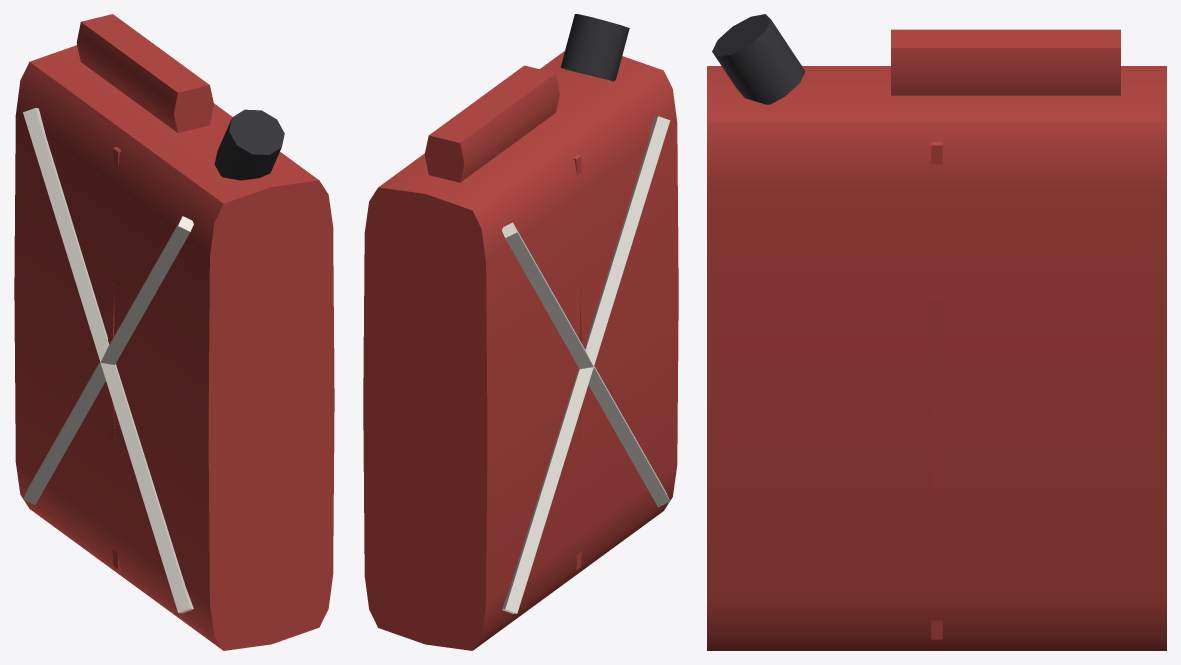
File: fuel_can.glb
3 views of the same model, side by side, from view 1: azimuth 30°, elevation 25°; view 2: azimuth 150°, elevation 25°; view 3: azimuth 270°, elevation 25° (orthographic). The views are drawn at different scales.
Visible parts, largest first — view 1: lod0; view 2: lod0; view 3: lod0.
Part boxes in pixels (<box>): lod0: <box>14,14,334,650</box>; lod0: <box>363,14,678,650</box>; lod0: <box>707,14,1166,650</box>.
Size of what is drawn, in the model's own units: 0.0825 by 0.2937 by 0.2.
